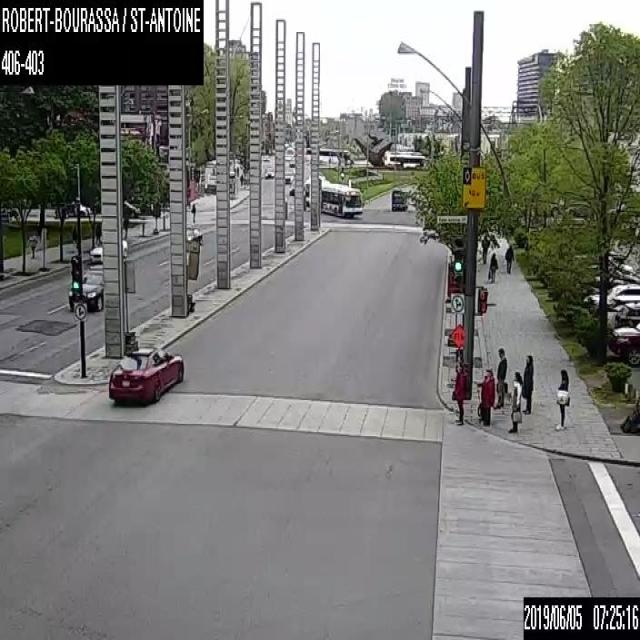bus: (319, 175, 364, 217), (382, 149, 424, 167), (305, 147, 352, 161), (303, 175, 310, 209)
construction: (39, 227, 48, 271), (449, 323, 463, 348)
pedestrian: (477, 368, 495, 426), (493, 346, 507, 409), (508, 370, 522, 432), (451, 359, 464, 425), (555, 368, 569, 429), (522, 354, 534, 414), (486, 251, 496, 280), (28, 231, 37, 259), (504, 243, 512, 273), (481, 233, 488, 264), (122, 213, 130, 237), (94, 222, 100, 244), (190, 201, 195, 220)
vehicle: (107, 346, 183, 402), (68, 264, 103, 311), (608, 320, 639, 366), (90, 238, 127, 263), (607, 282, 639, 310), (614, 301, 639, 327), (391, 187, 406, 209), (284, 170, 294, 183), (264, 167, 274, 177), (262, 155, 269, 161)
